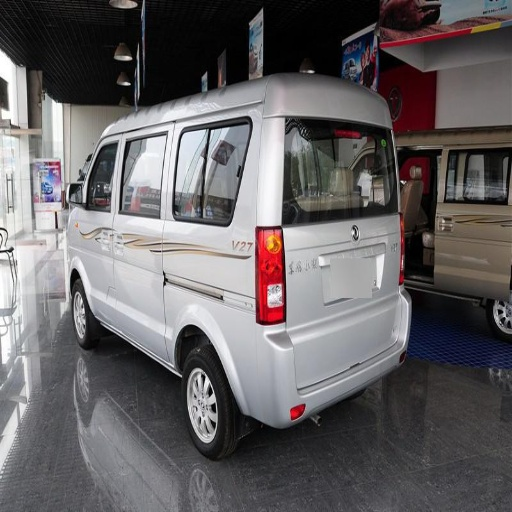back_left_light: (255, 228, 285, 323)
back_right_door: (80, 142, 115, 316)
trunk: (136, 216, 400, 391)
